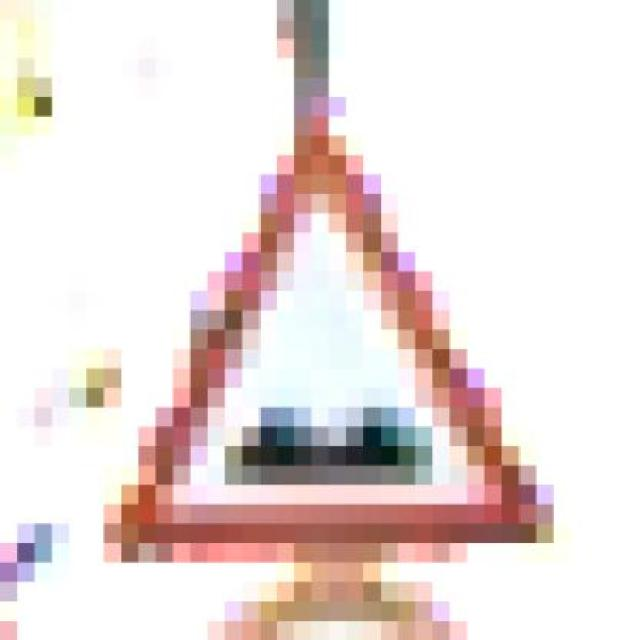Uneven Road: (86, 116, 571, 562)
